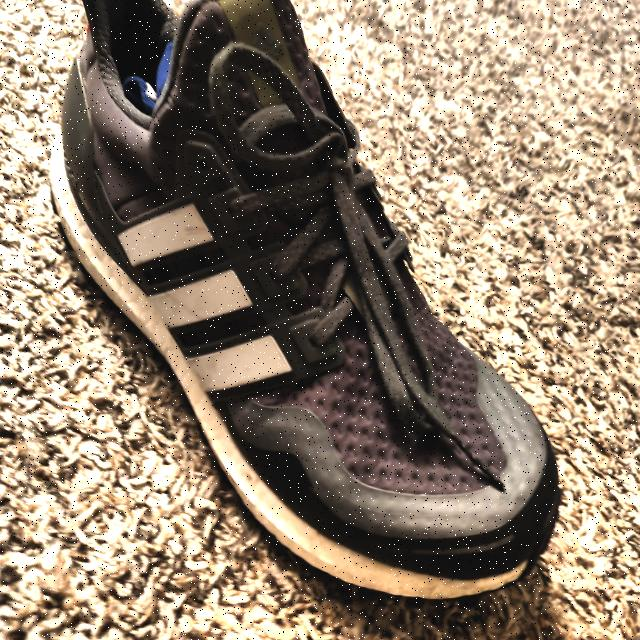black shoes: (88, 1, 522, 536)
